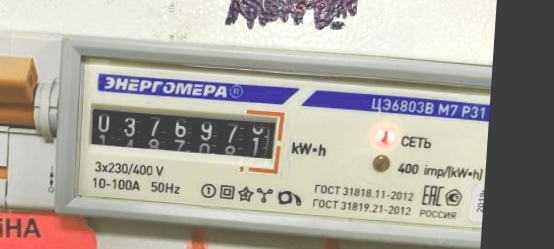0: (94, 110, 111, 132)
1: (249, 135, 261, 156)
3: (121, 114, 136, 138)
6: (173, 116, 187, 138)
7: (223, 120, 238, 144), (147, 113, 161, 138)
9: (198, 118, 212, 141)
screen: (80, 96, 287, 177)
